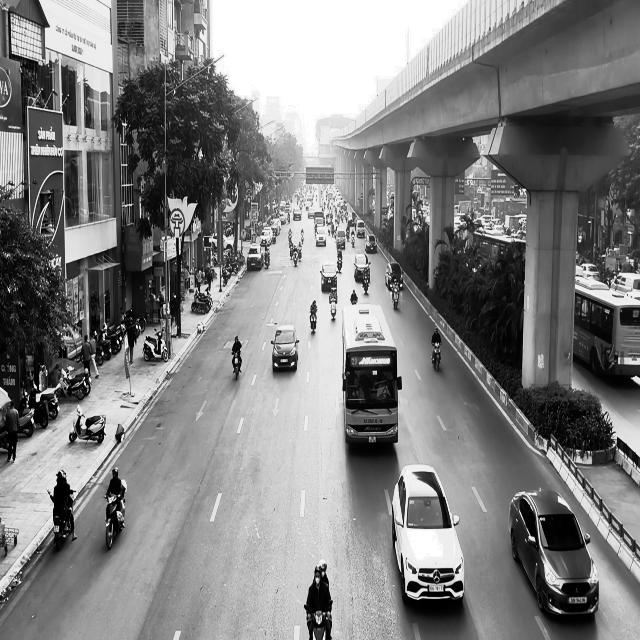bus: (341, 303, 402, 445), (572, 276, 640, 378)
car: (508, 488, 600, 618), (391, 463, 465, 604), (270, 324, 299, 372), (320, 260, 337, 290), (385, 262, 403, 290), (353, 253, 370, 282)
motorbike: (46, 486, 76, 550), (69, 403, 106, 444), (104, 488, 125, 550), (142, 328, 168, 362), (390, 278, 400, 310), (232, 350, 242, 380), (431, 342, 441, 371), (362, 262, 370, 294), (329, 288, 337, 318), (309, 306, 317, 332)
